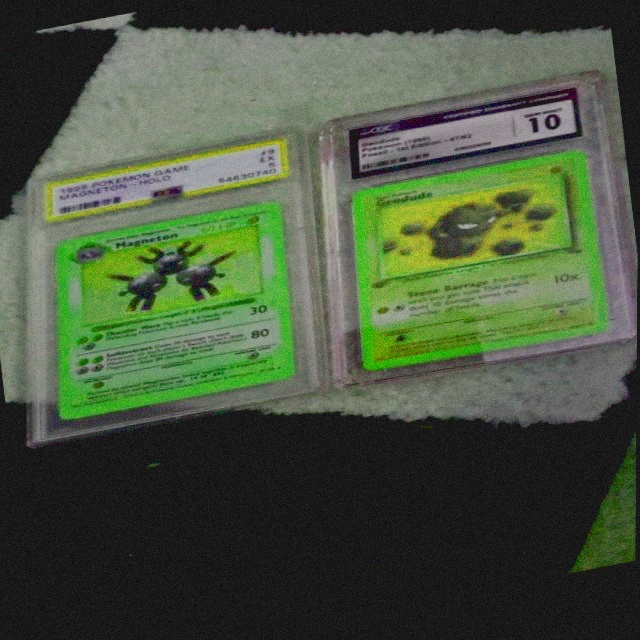card: (352, 158, 609, 376), (55, 204, 297, 421)
